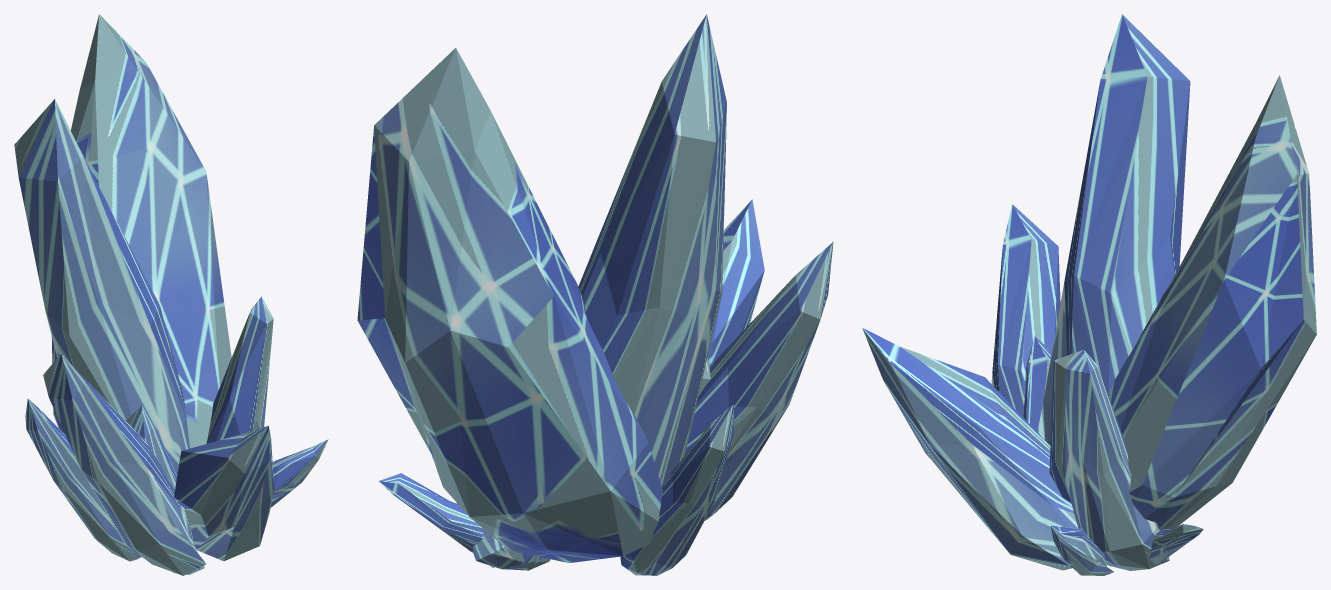
The model's file is cristal bush1.fbx.
3 views of the same model, side by side, from view 1: azimuth 30°, elevation 25°; view 2: azimuth 150°, elevation 25°; view 3: azimuth 270°, elevation 25° (orthographic). The views are drawn at different scales.
Parts seen in each view (by area): view 1: Icosphere.014, Icosphere.015, Icosphere.019, Icosphere.018, Icosphere.017, Icosphere.021, Icosphere.022, Icosphere.016; view 2: Icosphere.014, Icosphere.015, Icosphere.019, Icosphere.021, Icosphere.018, Icosphere.020, Icosphere.017; view 3: Icosphere.014, Icosphere.015, Icosphere.018, Icosphere.017, Icosphere.019, Icosphere.022, Icosphere.016, Icosphere.020.
Boxes of the visible parts, box(x1,y1,x2,y2) form: Icosphere.014: box(51, 14, 231, 448); Icosphere.015: box(14, 99, 189, 473); Icosphere.019: box(43, 353, 206, 575); Icosphere.018: box(174, 425, 273, 561); Icosphere.017: box(206, 296, 273, 443); Icosphere.021: box(25, 398, 141, 561); Icosphere.022: box(270, 439, 328, 507); Icosphere.016: box(126, 405, 204, 574); Icosphere.014: box(357, 48, 662, 562); Icosphere.015: box(578, 14, 726, 487); Icosphere.019: box(685, 242, 833, 520); Icosphere.021: box(620, 404, 733, 575); Icosphere.018: box(707, 199, 764, 366); Icosphere.020: box(378, 473, 494, 568); Icosphere.017: box(456, 502, 550, 570); Icosphere.014: box(1108, 75, 1316, 529); Icosphere.015: box(1037, 14, 1190, 445); Icosphere.018: box(862, 328, 1077, 570); Icosphere.017: box(1049, 349, 1169, 570); Icosphere.019: box(991, 204, 1060, 416); Icosphere.022: box(1051, 525, 1113, 575); Icosphere.016: box(1023, 336, 1051, 431); Icosphere.020: box(1150, 524, 1203, 564).
Bounding box in the file's own units: 99.64 × 154 × 131.
1 material, 1 textured.
